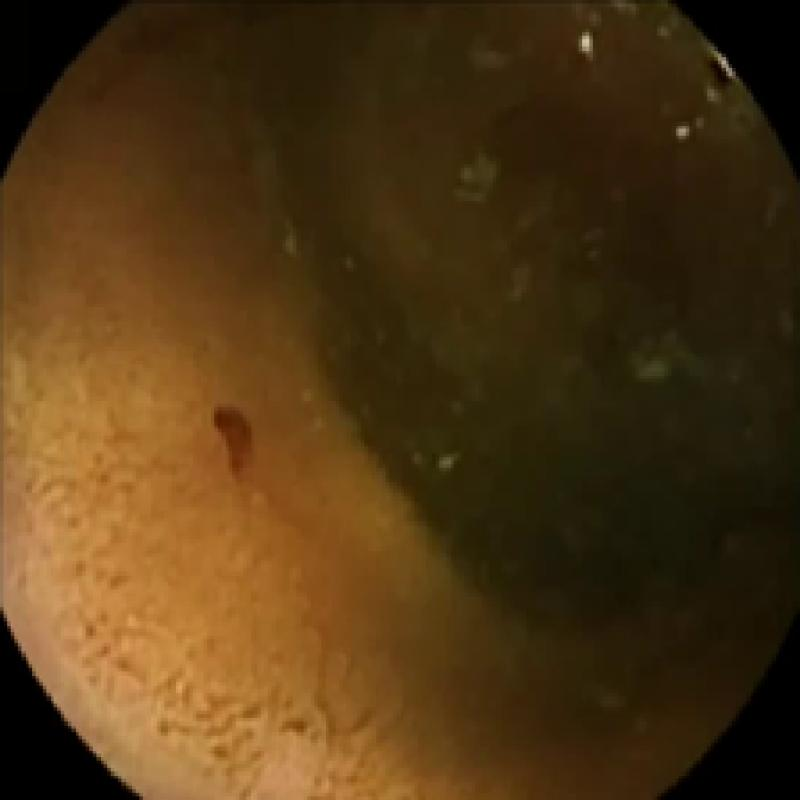bleeding: (204, 404, 257, 472)
